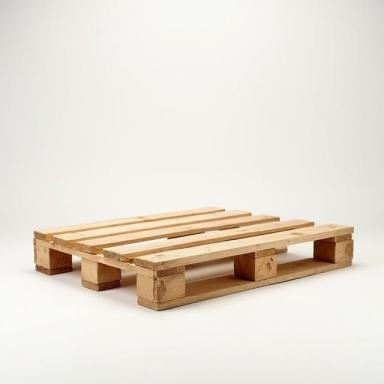pallet: (33, 206, 354, 311), (185, 256, 234, 284)
